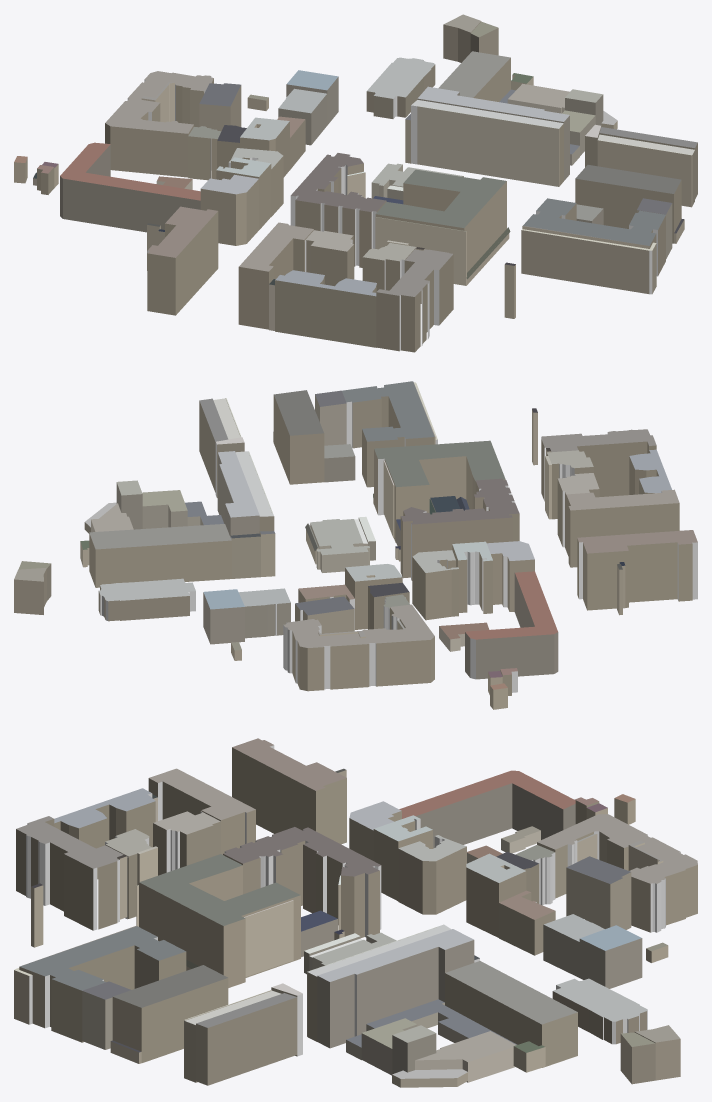
3 renders of one model, top to bottom at view 1: azimuth 30°, elevation 25°; view 2: azimuth 150°, elevation 25°; view 3: azimuth 270°, elevation 25°, orthographic. The views are drawn at different scales.
Parts seen in each view (by area): view 1: tuile; view 2: tuile; view 3: tuile.
Boxes of the visible parts, x1=… form: tuile: x1=14, y1=14, x2=697, y2=352; tuile: x1=14, y1=381, x2=697, y2=709; tuile: x1=14, y1=738, x2=697, y2=1087.
Size of the model in its own units: 267 by 30.07 by 265.
